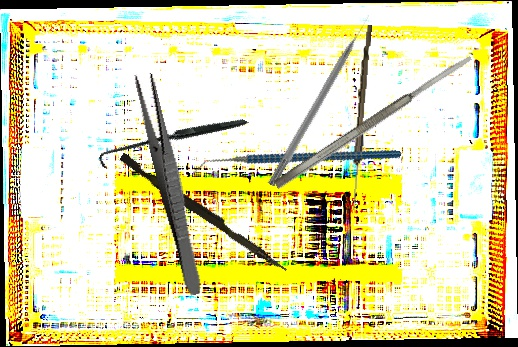Chopper: (192, 95, 402, 230)
Dressing Forceps: (131, 70, 209, 297)
Hook Surgical: (96, 69, 249, 217)
Pusher: (116, 152, 292, 274), (267, 12, 375, 189)
Spatula Surgical: (272, 52, 475, 191)
Surgical Spoon: (350, 24, 372, 211)
